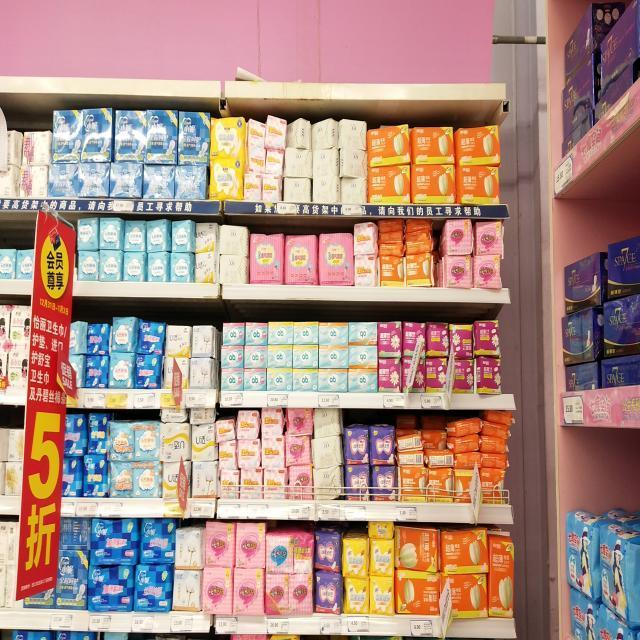Imprecise: (396, 412, 448, 468)
